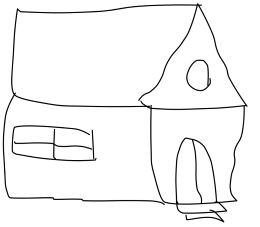big_house: (0, 0, 258, 225)
closed_window: (7, 122, 105, 164)
door: (163, 134, 224, 209)
open_window: (181, 55, 216, 96)
roof: (4, 0, 256, 114)
wall: (140, 96, 252, 206)
